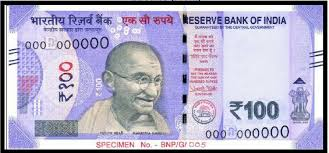hundred: (27, 34, 298, 129)
